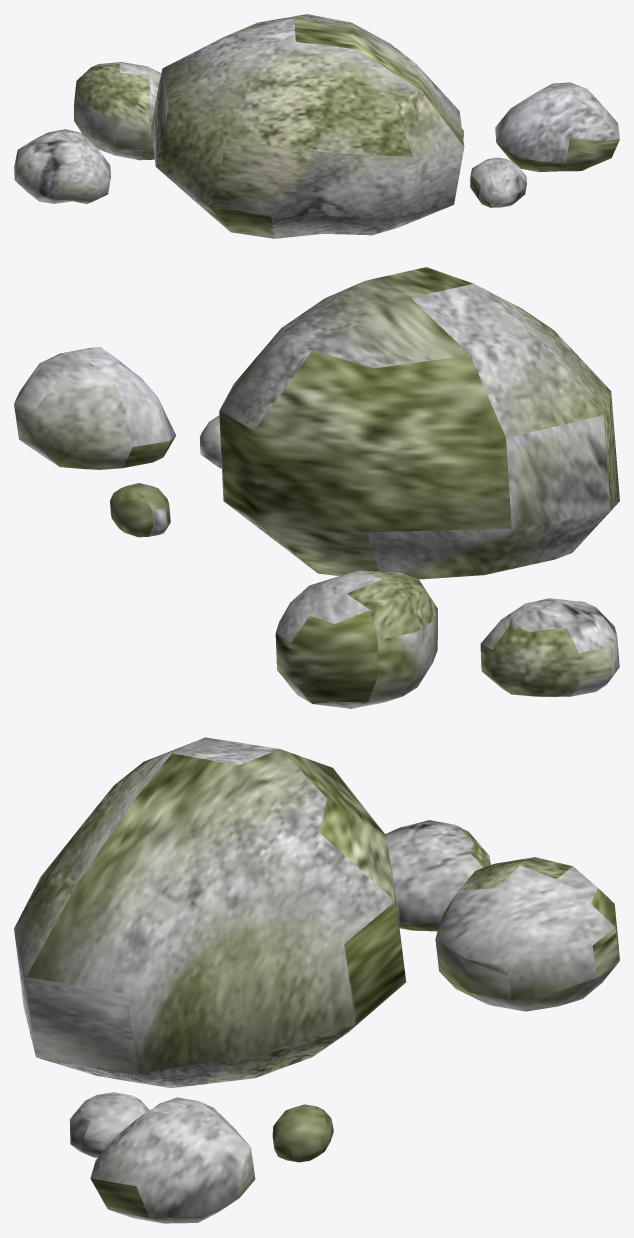
Rendered from Piedra_002_Finished.fbx.
3 renders of one model, top to bottom at view 1: azimuth 30°, elevation 25°; view 2: azimuth 150°, elevation 25°; view 3: azimuth 270°, elevation 25°, orthographic. The views are drawn at different scales.
Visible parts, largest first — view 1: Cube.003; view 2: Cube.003; view 3: Cube.003.
Boxes of the visible parts, box(x1,y1,x2,y2) form: Cube.003: box(14, 14, 619, 238); Cube.003: box(14, 267, 619, 708); Cube.003: box(14, 737, 619, 1223).
Size of the model in its own units: 774 by 281 by 563.
Materials: 1 (1 with a texture image).
